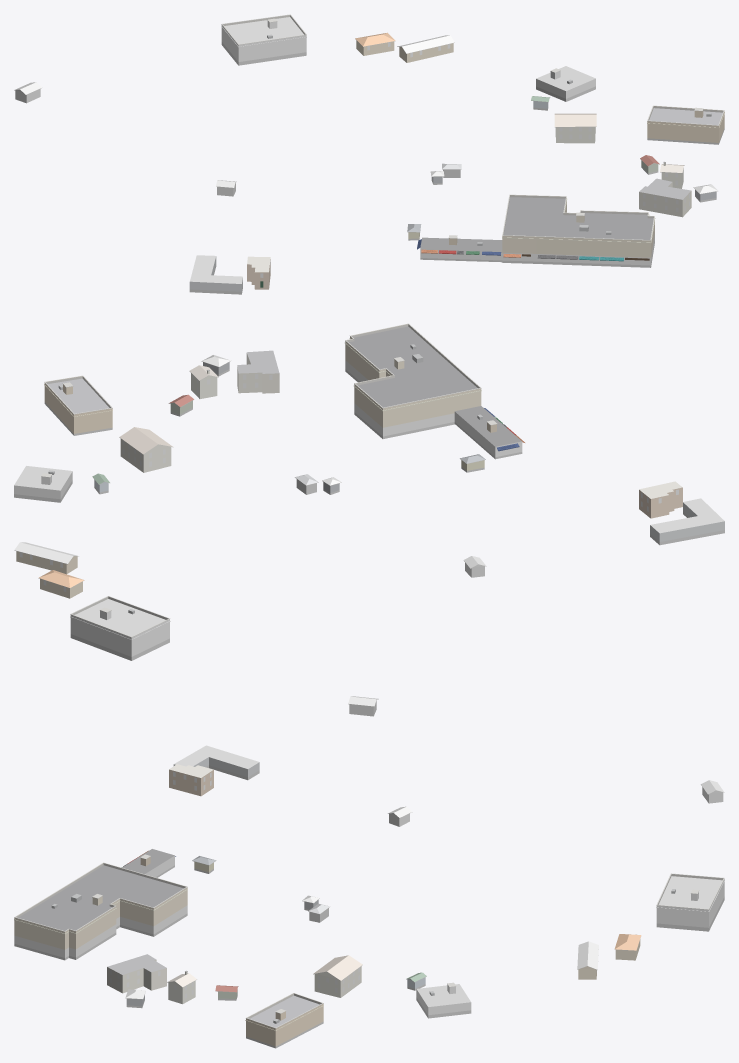
Rendered from bld_1_1.dae.
3 views of the same model, one above another, from view 1: azimuth 30°, elevation 25°; view 2: azimuth 150°, elevation 25°; view 3: azimuth 270°, elevation 25° (orthographic). The views are drawn at different scales.
Visible parts, largest first — view 1: blda1711; view 2: blda1711; view 3: blda1711.
Boxes of the visible parts, <box> form: blda1711: <box>14,14,724,294</box>; blda1711: <box>14,323,724,716</box>; blda1711: <box>14,745,724,1048</box>.
Bounding box in the file's own units: 233 × 239 × 13.31.
